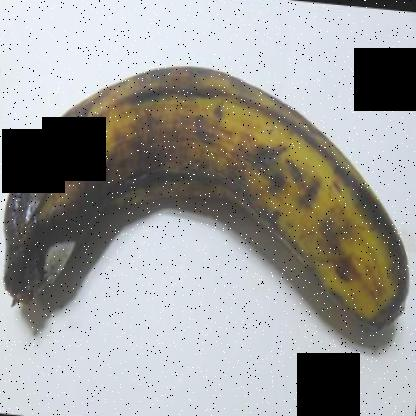overripe: (0, 34, 415, 361)
rotten: (0, 132, 88, 302)
